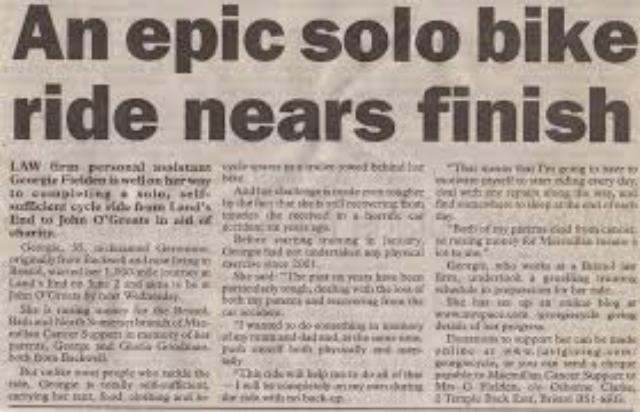cardboard paper: (3, 0, 638, 411)
